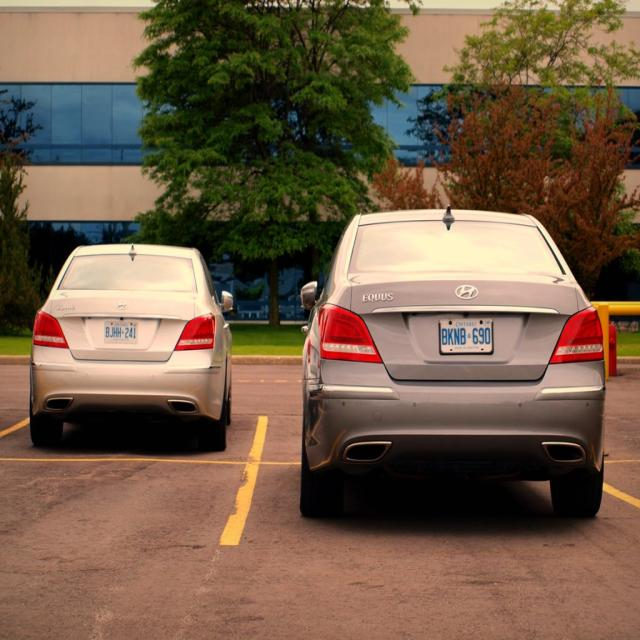car: (298, 204, 604, 519), (28, 243, 232, 450)
